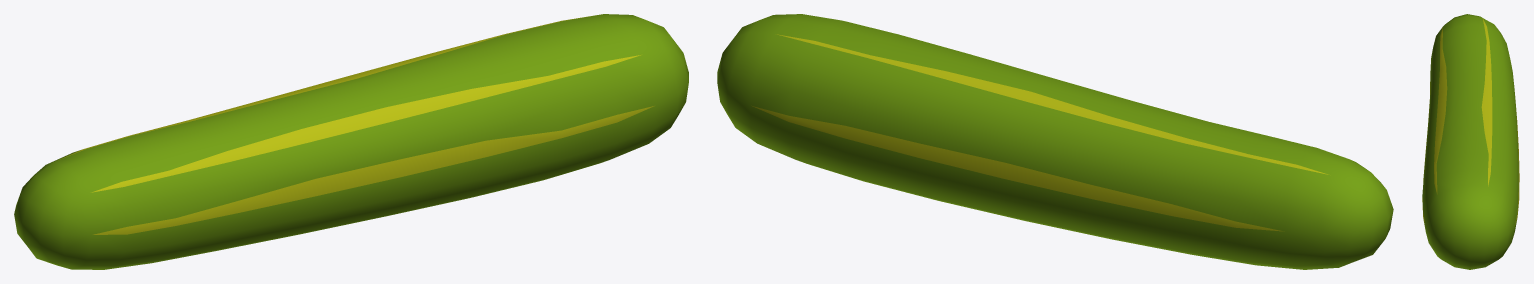
File: cucumber.glb
3 renders of one model, left to right at view 1: azimuth 30°, elevation 25°; view 2: azimuth 150°, elevation 25°; view 3: azimuth 270°, elevation 25°, orthographic. The views are drawn at different scales.
Parts seen in each view (by area): view 1: FoodIngredient_Cucumber; view 2: FoodIngredient_Cucumber; view 3: FoodIngredient_Cucumber.
Part boxes in pixels (x1,y1,x2,y2): FoodIngredient_Cucumber: (14,14,688,269); FoodIngredient_Cucumber: (717,14,1393,269); FoodIngredient_Cucumber: (1422,14,1519,269).
Bounding box in the file's own units: 1.64 × 0.3243 × 0.3213.
